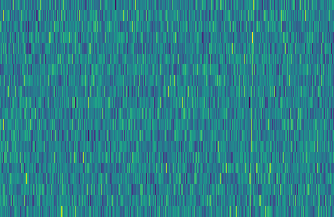signal: (246, 0, 258, 217)
